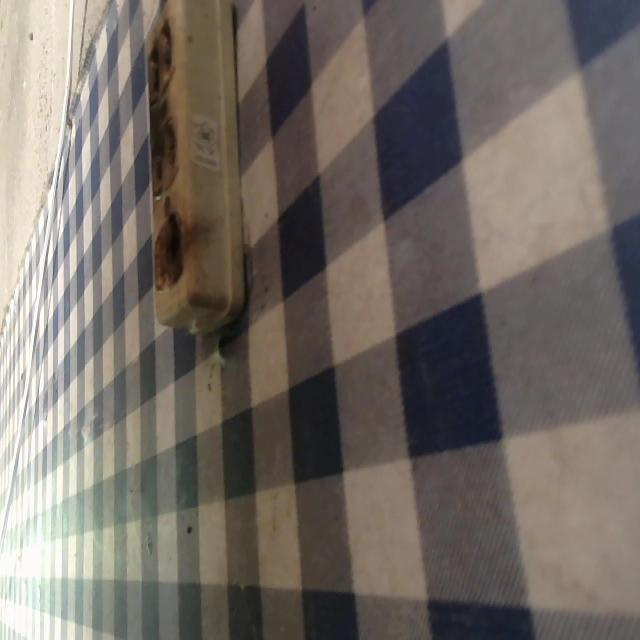-: (148, 113, 179, 199), (152, 212, 184, 289), (146, 18, 175, 102)
